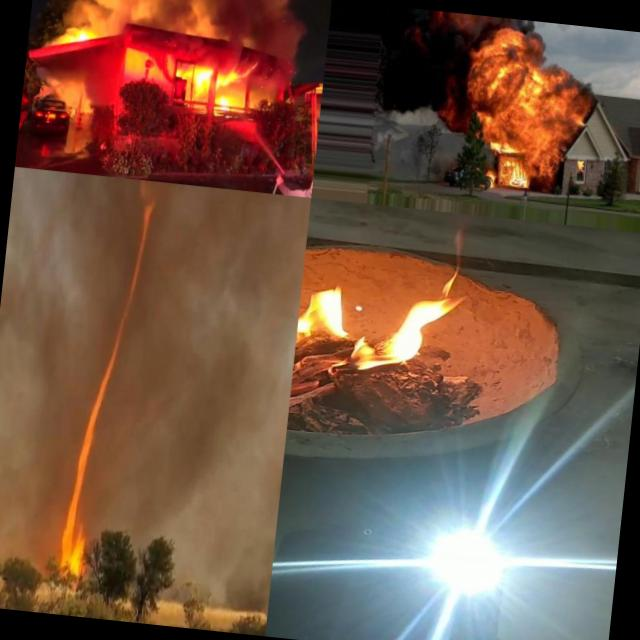fire: (288, 260, 474, 438), (494, 31, 596, 193), (469, 28, 511, 148), (188, 54, 256, 100), (53, 518, 90, 576), (64, 450, 94, 520), (80, 386, 108, 454), (134, 180, 160, 242), (100, 334, 125, 389), (114, 282, 138, 336), (128, 240, 146, 286), (66, 25, 98, 48), (212, 95, 238, 117), (172, 62, 190, 86)
smoke: (123, 184, 310, 550), (0, 166, 109, 466), (98, 0, 309, 65), (378, 18, 480, 138), (94, 176, 140, 318), (0, 458, 63, 560), (92, 390, 136, 534), (218, 550, 272, 610), (79, 58, 121, 114), (252, 62, 294, 100), (58, 0, 102, 28), (39, 22, 68, 52)
